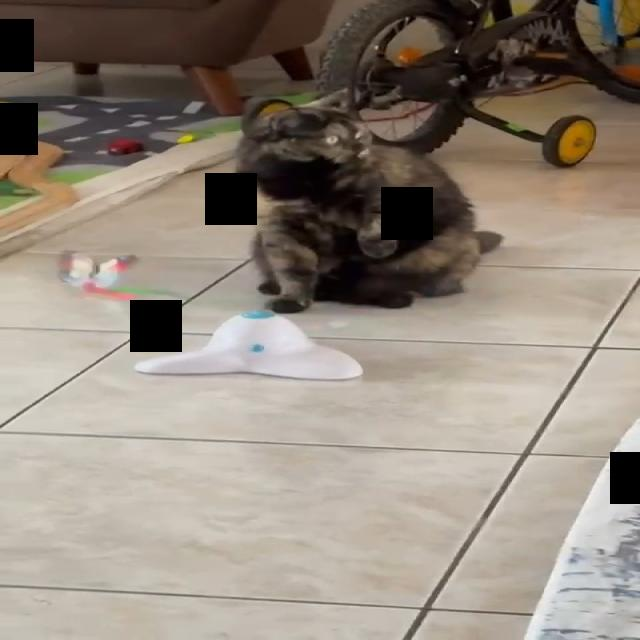authorized: (230, 88, 502, 312)
